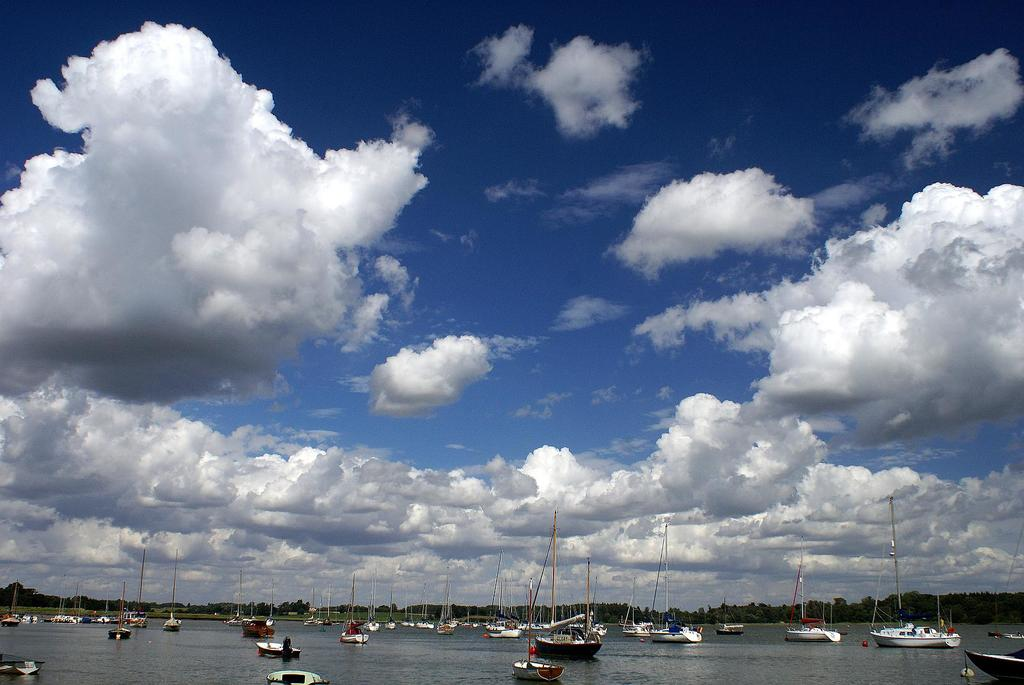boat: (858, 475, 968, 658), (527, 500, 611, 668), (641, 515, 707, 651), (770, 542, 848, 646), (506, 571, 571, 683), (481, 545, 524, 646), (331, 564, 379, 652), (160, 526, 188, 645), (611, 567, 654, 639), (436, 563, 465, 644), (244, 632, 310, 664), (109, 577, 134, 651), (710, 618, 752, 641)
